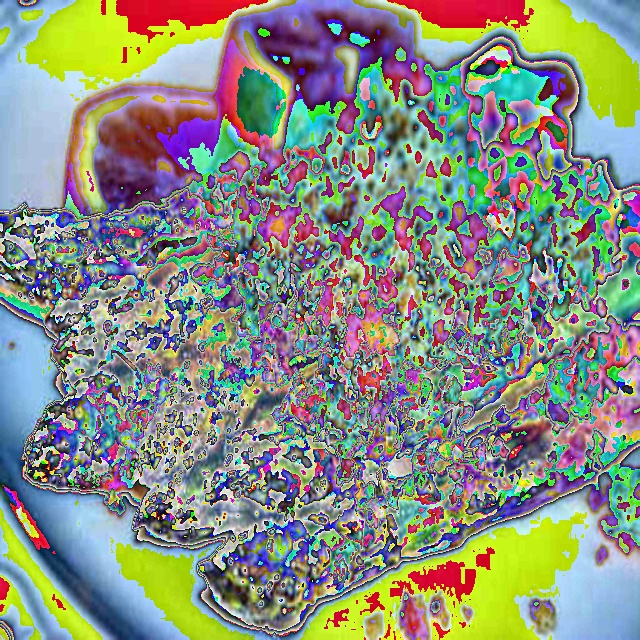background: (0, 0, 640, 633)
